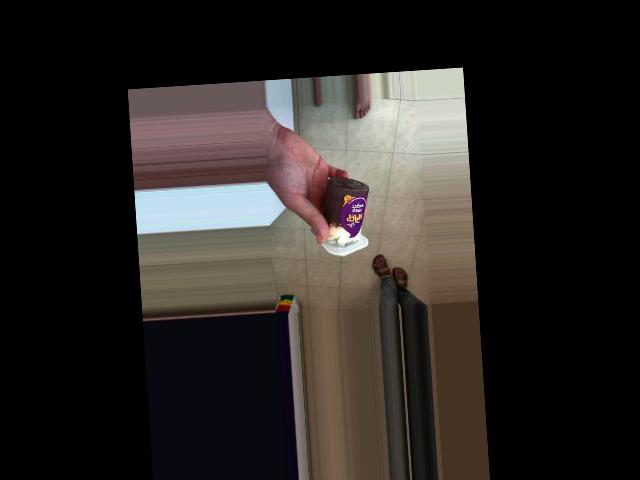milky: (312, 171, 369, 254)
